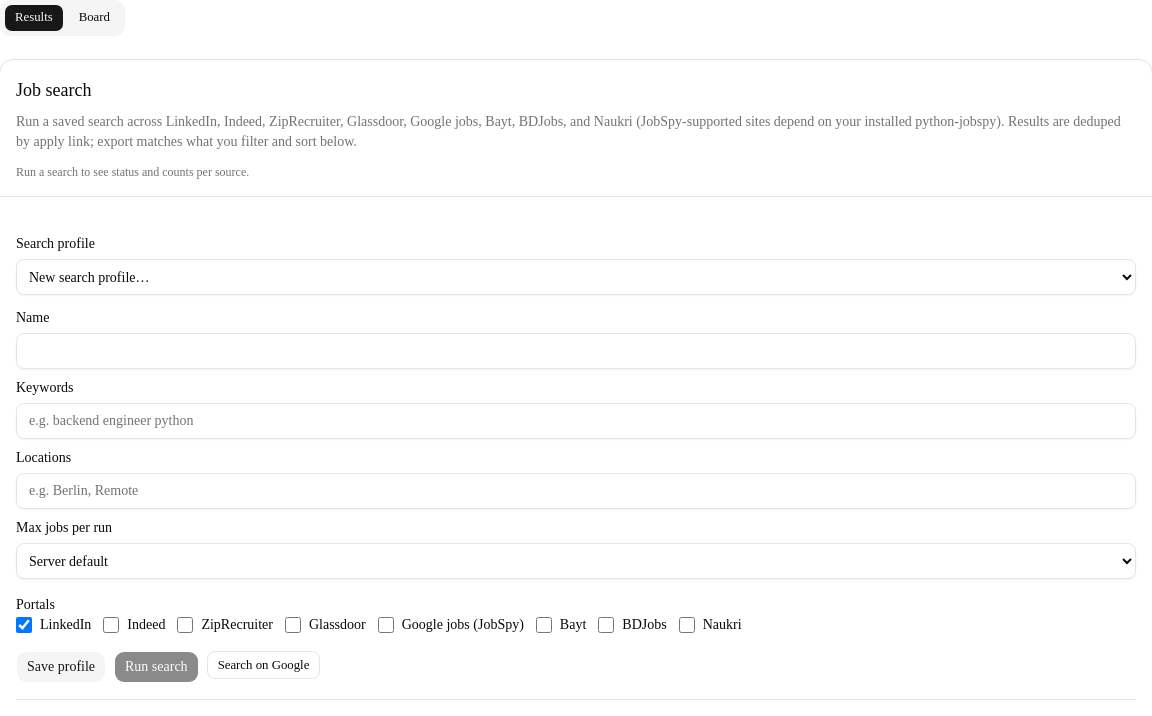
Test: JobsDashboard › loads board when switching to Board tab
Click the button with test id "jobs-tab-board".
click(94, 18)  # box [68,4,121,32]
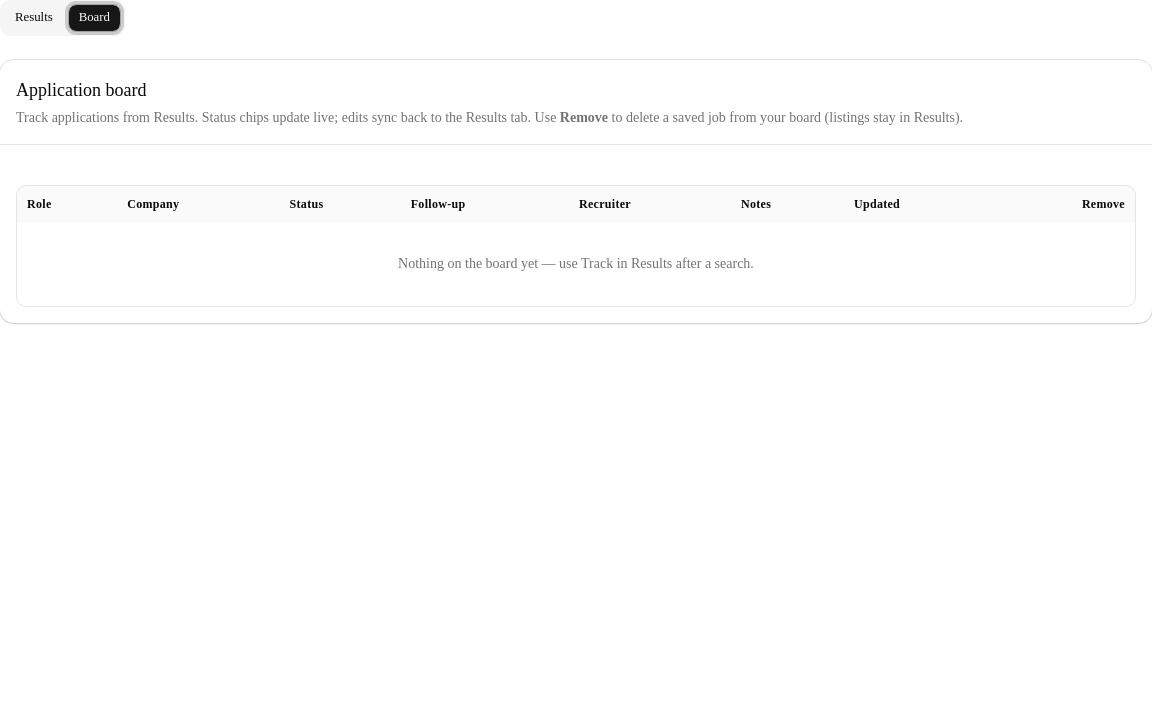
Result: the text "Application board" is shown at [16,80,146,100]
